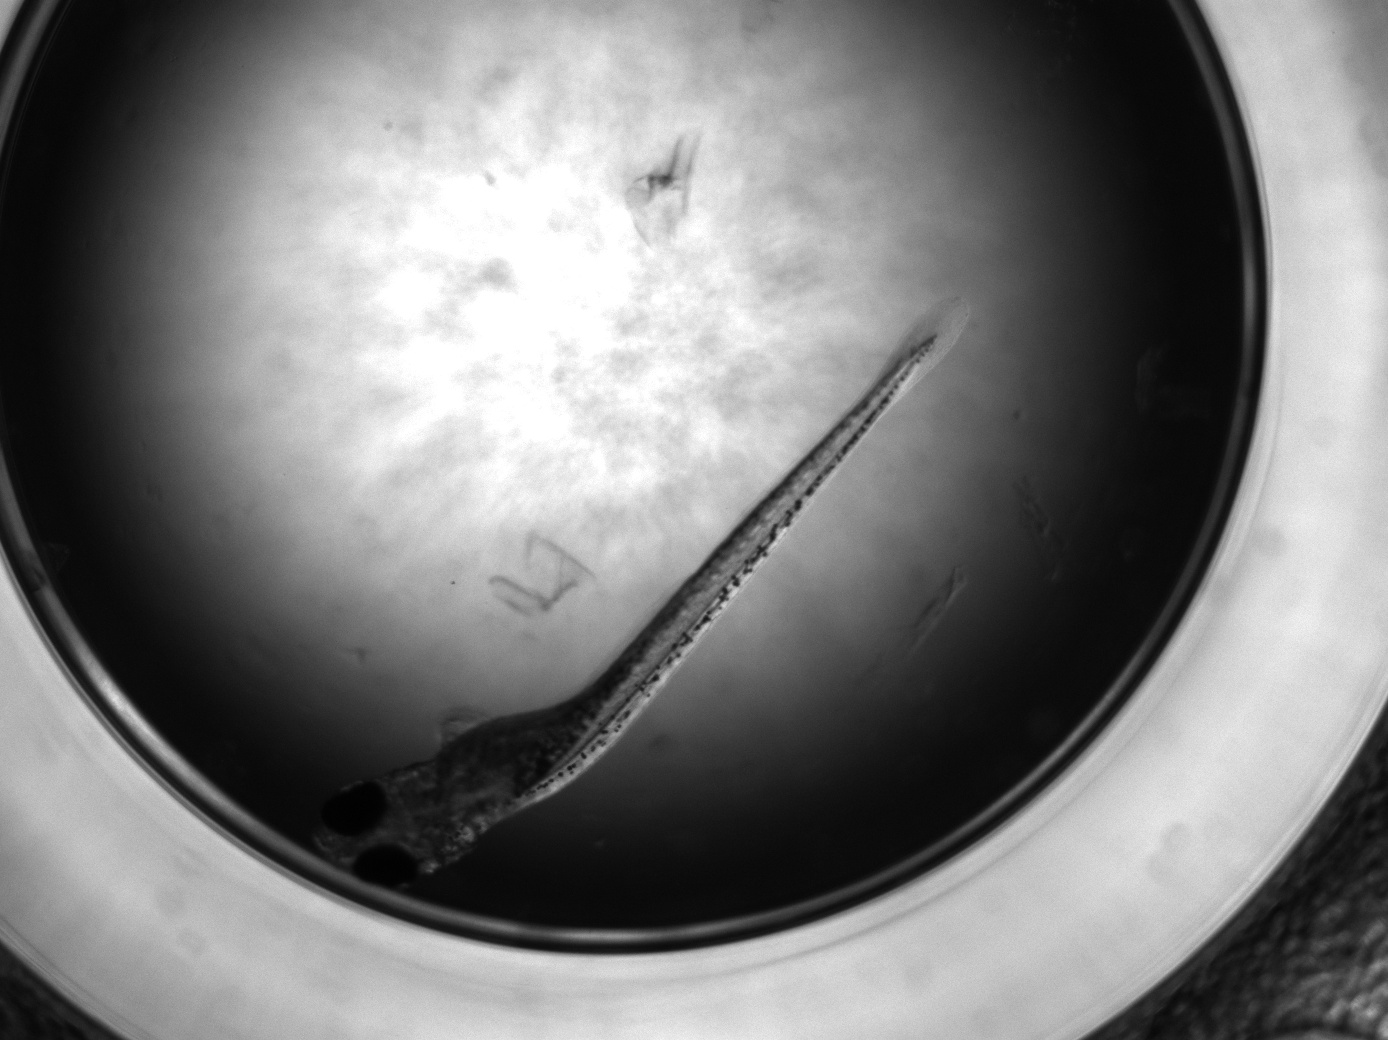embryo: (310, 329, 944, 893)
eye: (319, 779, 387, 838), (352, 842, 420, 891)
yolksac: (432, 701, 620, 831)
